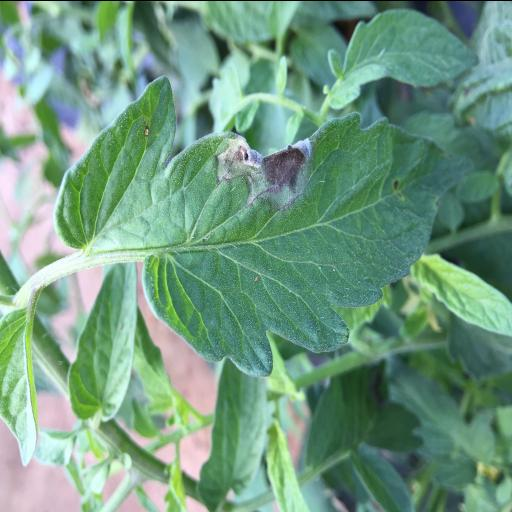Healthy: (324, 4, 482, 110), (67, 258, 137, 422)
Late Blight: (141, 111, 473, 377)
